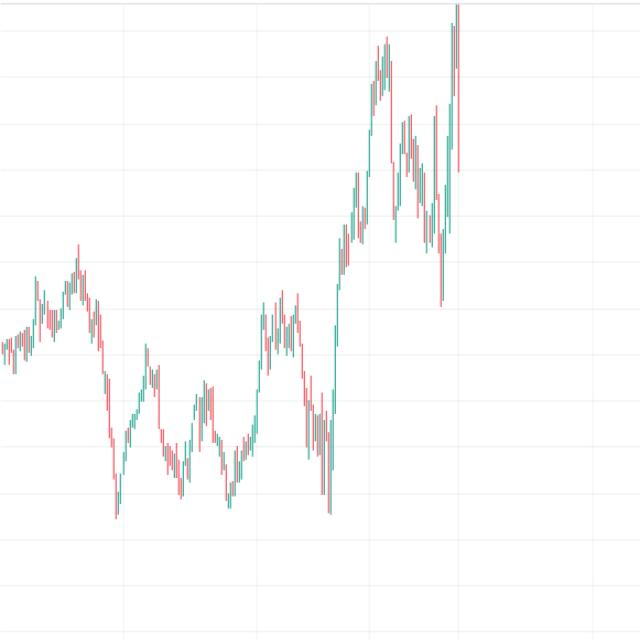Triple-Bottom: (92, 353, 270, 516)
Triple-Top: (247, 285, 320, 378)
